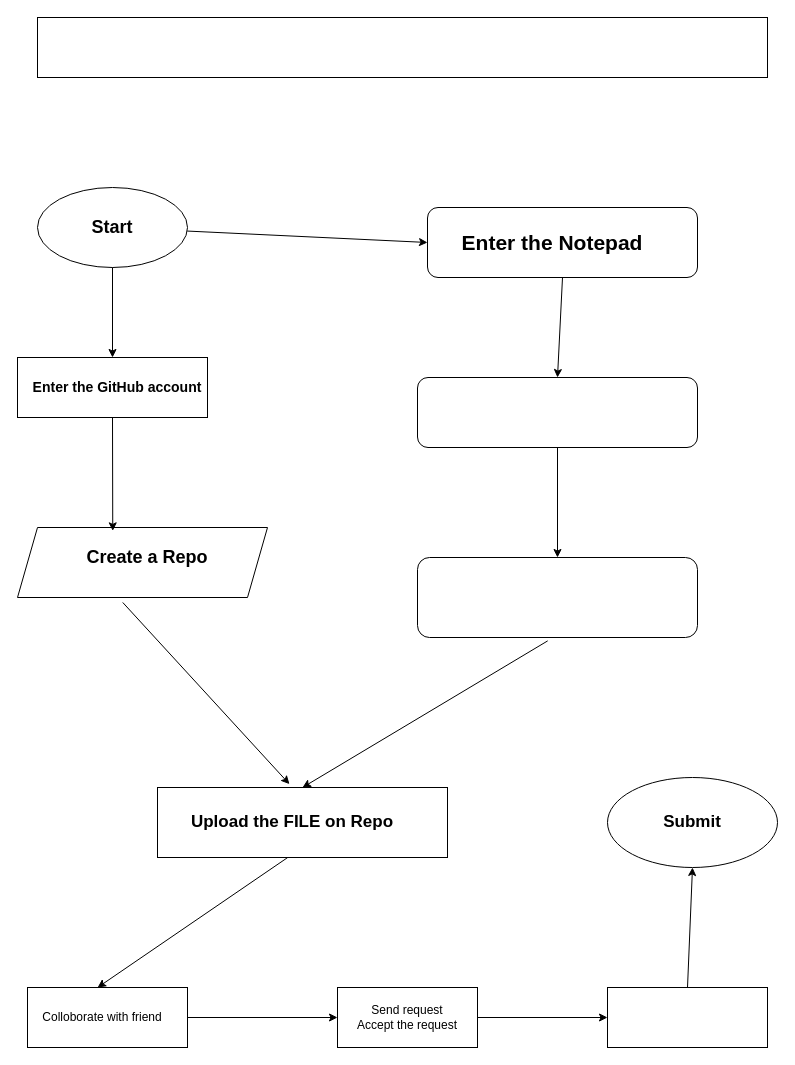
This 795x1065 diagram has some shape labels left out. The shapes that lost their labels are listed below. From the top down, each one's centre as x and y in pixels, then its label:
At (x=402, y=47): "Devops life cycle of WEB Application".
At (x=557, y=412): "Type the code on HTML".
At (x=557, y=597): "Saved with .HTML".
At (x=687, y=1017): "Raise the issue Complete the issue".
